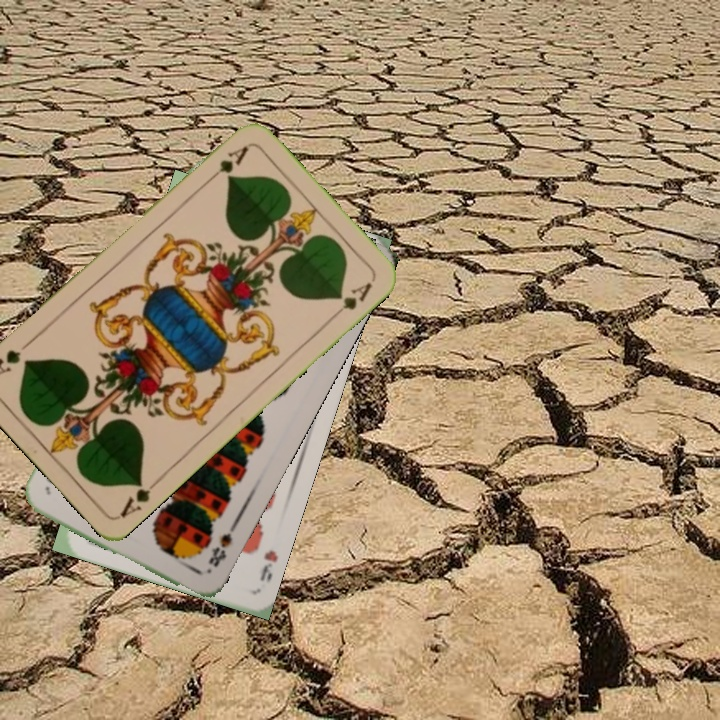GA: (115, 474, 163, 521), (203, 142, 251, 186)
H9: (255, 546, 281, 586)
S8: (204, 521, 238, 570)
